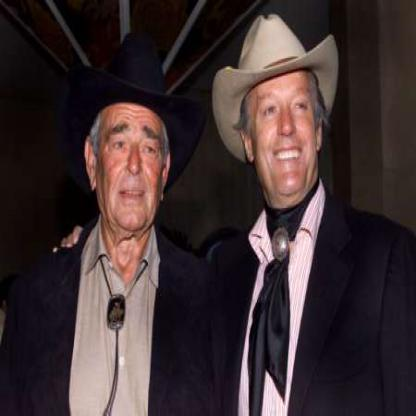face: (96, 71, 169, 235), (249, 38, 320, 199)
